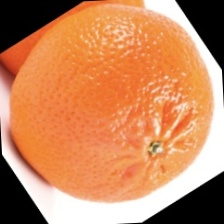orange: (18, 30, 166, 197)
